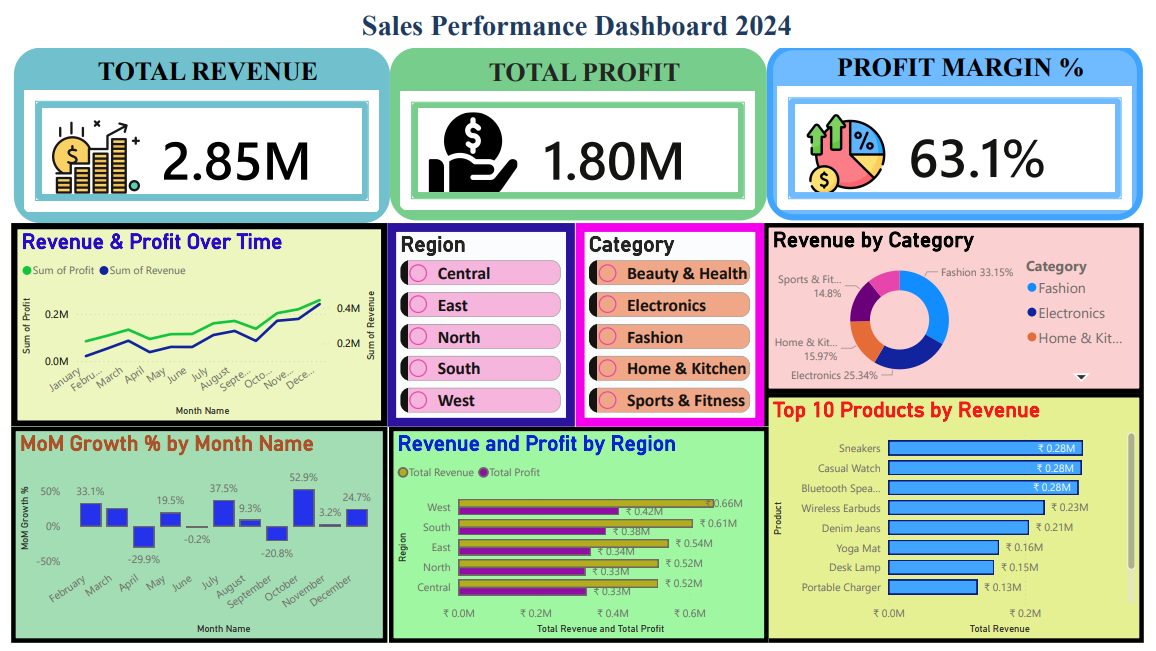

Layout of this report page (visuals, bound fields, positions):
{"tool":"powerbi","page":{"name":"Page 1","canvas":[1280,720],"ordinal":0},"visuals":[{"type":"cardVisual","title":"TOTAL REVENUE","fields":{"Data":["cleaned_sales_data.Total Revenue"]},"box":[0,0,425.5,221.3],"z":0},{"type":"cardVisual","title":"PROFIT  MARGIN %","fields":{"Data":["cleaned_sales_data.Profit Margin %"]},"box":[854.5,1.7,425.5,219.6],"z":1000},{"type":"cardVisual","title":"TOTAL PROFIT","fields":{"Data":["cleaned_sales_data.Total Profit"]},"box":[425.5,3.4,425.5,217.9],"z":2000},{"type":"lineChart","title":"Revenue & Profit Over Time","fields":{"Y":["Sum(cleaned_sales_data.Profit)"],"Y2":["Sum(cleaned_sales_data.Revenue)"],"Category":["cleaned_sales_data.Month"]},"box":[0,220.9,425.4,255.2],"z":3000},{"type":"clusteredBarChart","title":"Top 10 Products by Revenue","fields":{"Y":["cleaned_sales_data.Total Revenue"],"Category":["cleaned_sales_data.Product"]},"box":[850.8,437.7,429.5,282.7],"z":4000},{"type":"donutChart","title":"Revenue by Category","fields":{"Category":["cleaned_sales_data.Category"],"Y":["cleaned_sales_data.Total Revenue"]},"box":[850.8,220.9,429.5,216.8],"z":5000},{"type":"clusteredBarChart","title":"Revenue and Profit by Region","fields":{"Category":["cleaned_sales_data.Region"],"Y":["cleaned_sales_data.Total Revenue","cleaned_sales_data.Total Profit"]},"box":[426.8,476.2,429.5,244.3],"z":6000},{"type":"clusteredColumnChart","fields":{"Y":["cleaned_sales_data.MoM Growth %"],"Category":["Calendar.Month Name"]},"box":[0,476.2,425.4,244.3],"z":7000},{"type":"advancedSlicerVisual","fields":{"Values":["cleaned_sales_data.Category"]},"box":[638.1,220.9,212.7,255.2],"z":8000},{"type":"advancedSlicerVisual","fields":{"Values":["cleaned_sales_data.Region"]},"box":[426.8,220.9,211.3,255.2],"z":9000}]}

Visuals, with their boxes in screenshot pixels (x1, y1, x2, y2), scaled from the page's 1280x720 canvas onto the 1156x651 screenshot:
"TOTAL REVENUE" cardVisual: Rect(0, 0, 384, 200)
"PROFIT  MARGIN %" cardVisual: Rect(772, 2, 1155, 200)
"TOTAL PROFIT" cardVisual: Rect(384, 3, 769, 200)
"Revenue & Profit Over Time" lineChart: Rect(0, 200, 384, 430)
"Top 10 Products by Revenue" clusteredBarChart: Rect(768, 396, 1155, 650)
"Revenue by Category" donutChart: Rect(768, 200, 1155, 396)
"Revenue and Profit by Region" clusteredBarChart: Rect(385, 431, 773, 650)
clusteredColumnChart - cleaned_sales_data.MoM Growth % x Calendar.Month Name: Rect(0, 431, 384, 650)
advancedSlicerVisual - cleaned_sales_data.Category: Rect(576, 200, 768, 430)
advancedSlicerVisual - cleaned_sales_data.Region: Rect(385, 200, 576, 430)
